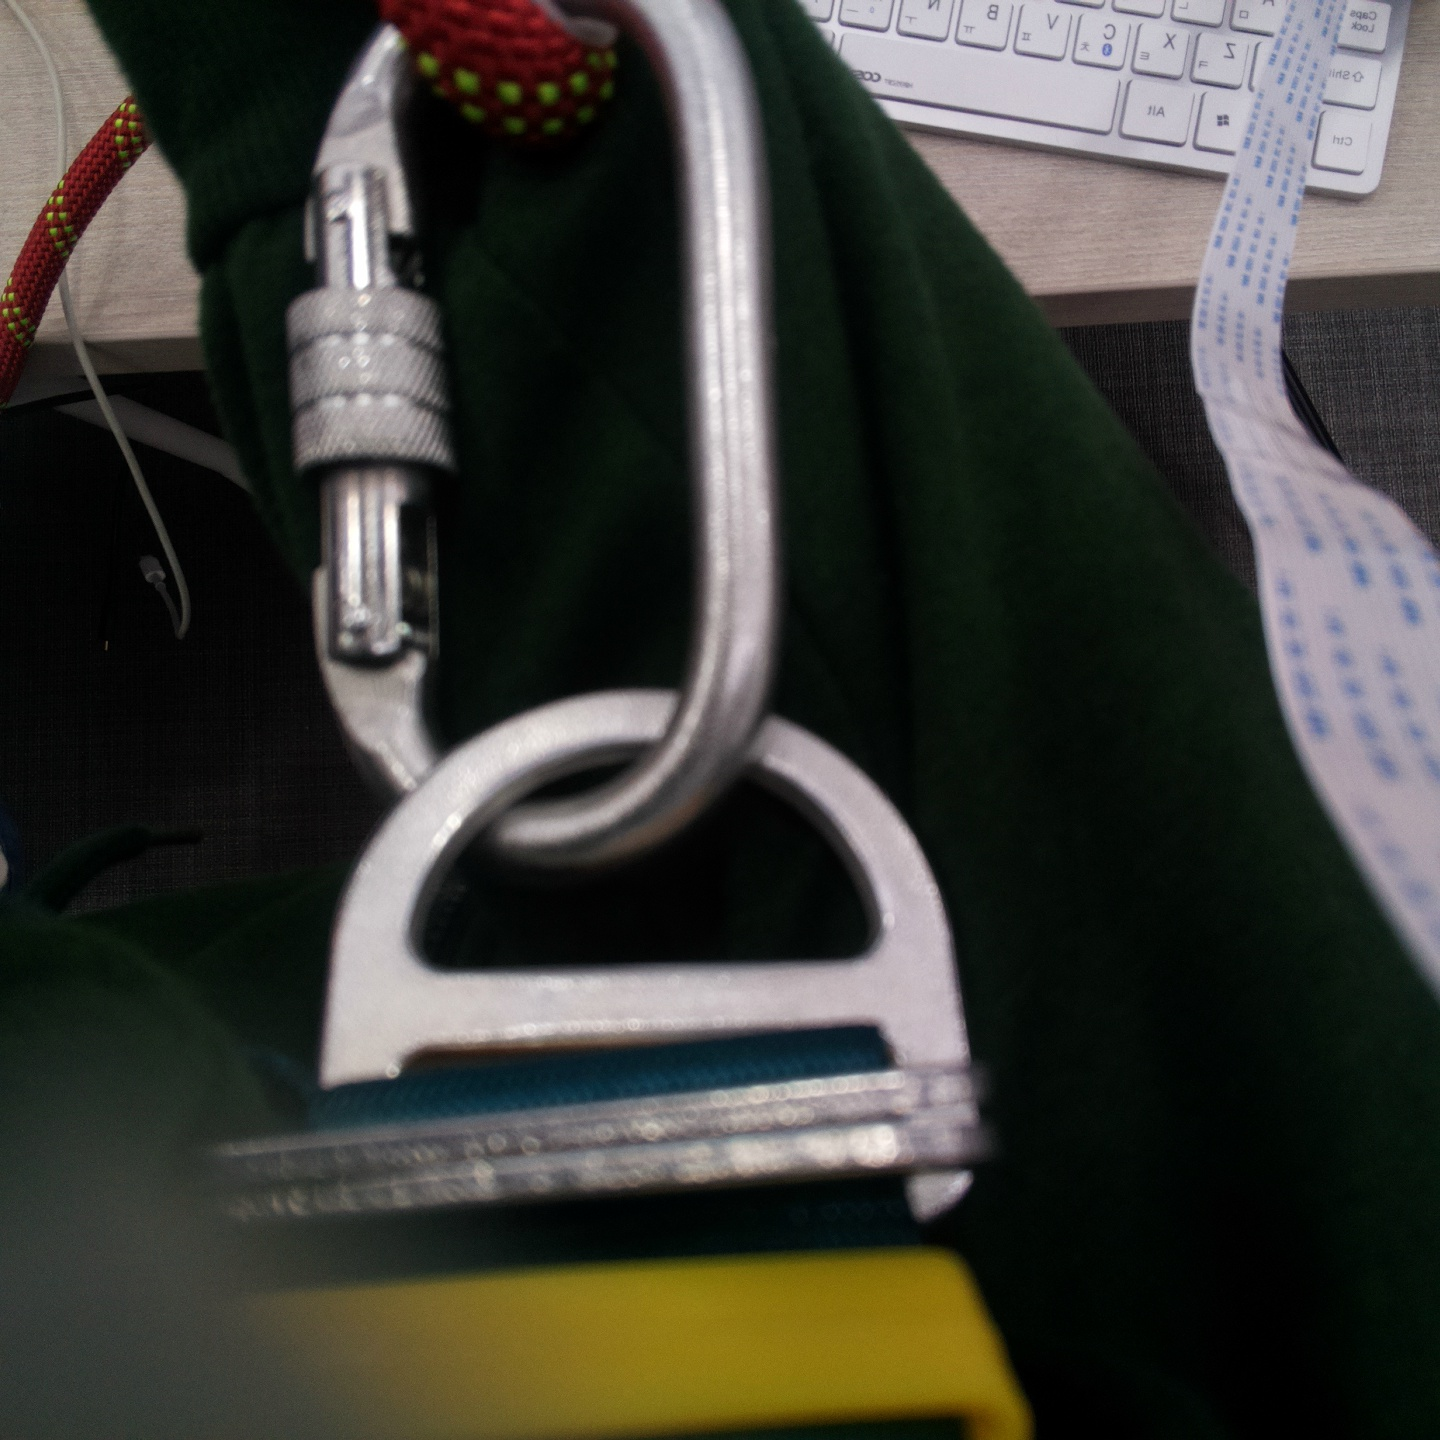SUCCESS: (290, 185, 783, 666)
